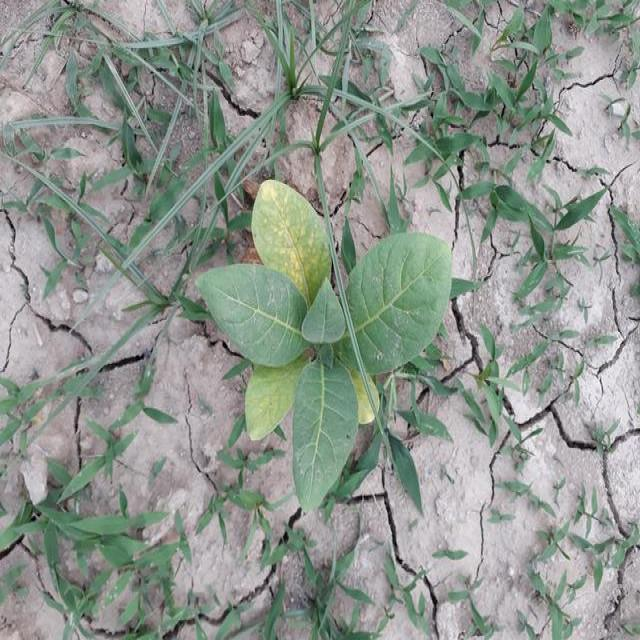crop: (204, 184, 450, 503)
